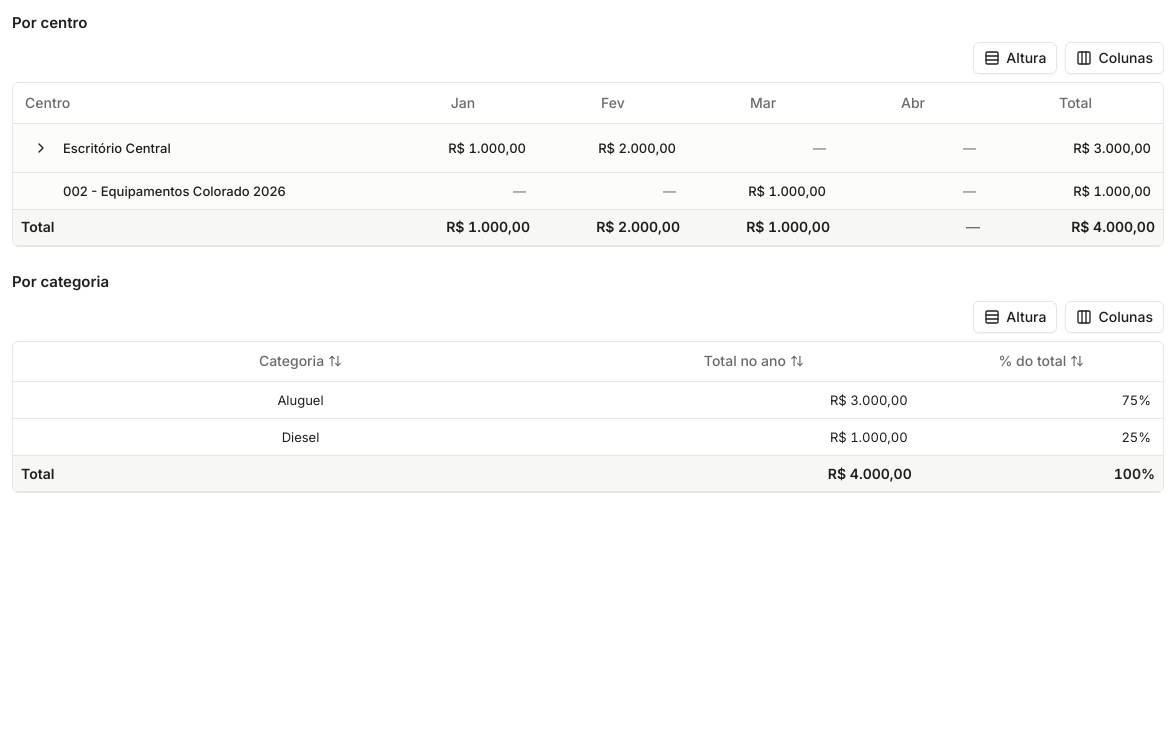
it: CustosIndiretosTabela › abre e fecha as etapas pelo botão da raiz
The width and height of the screenshot is (1176, 732).
Click the button named "Abrir Escritório Central" at (41, 148), box left=25, top=132, right=57, bottom=164
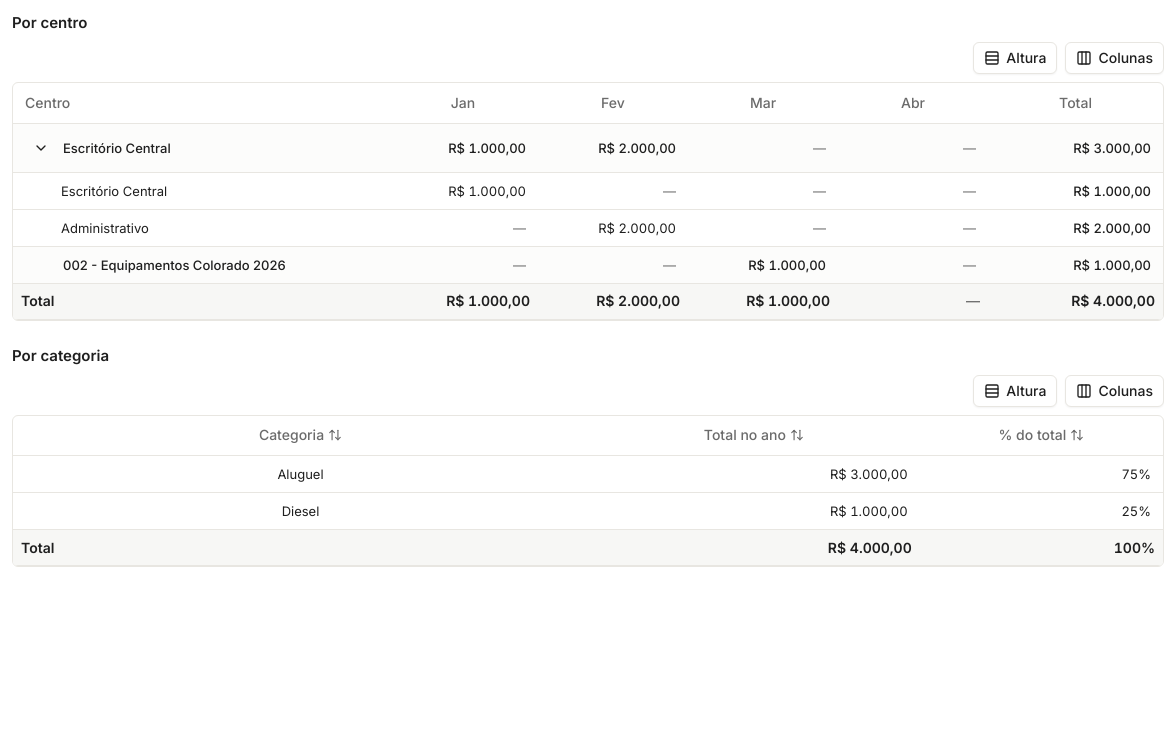
Now the row "Administrativo — R$ 2.000,00 — — R$ 2.000,00" is shown, box left=13, top=209, right=1163, bottom=246
Now the button named "Fechar Escritório Central" is expanded
Click the button named "Fechar Escritório Central" at (41, 148), box left=25, top=132, right=57, bottom=164
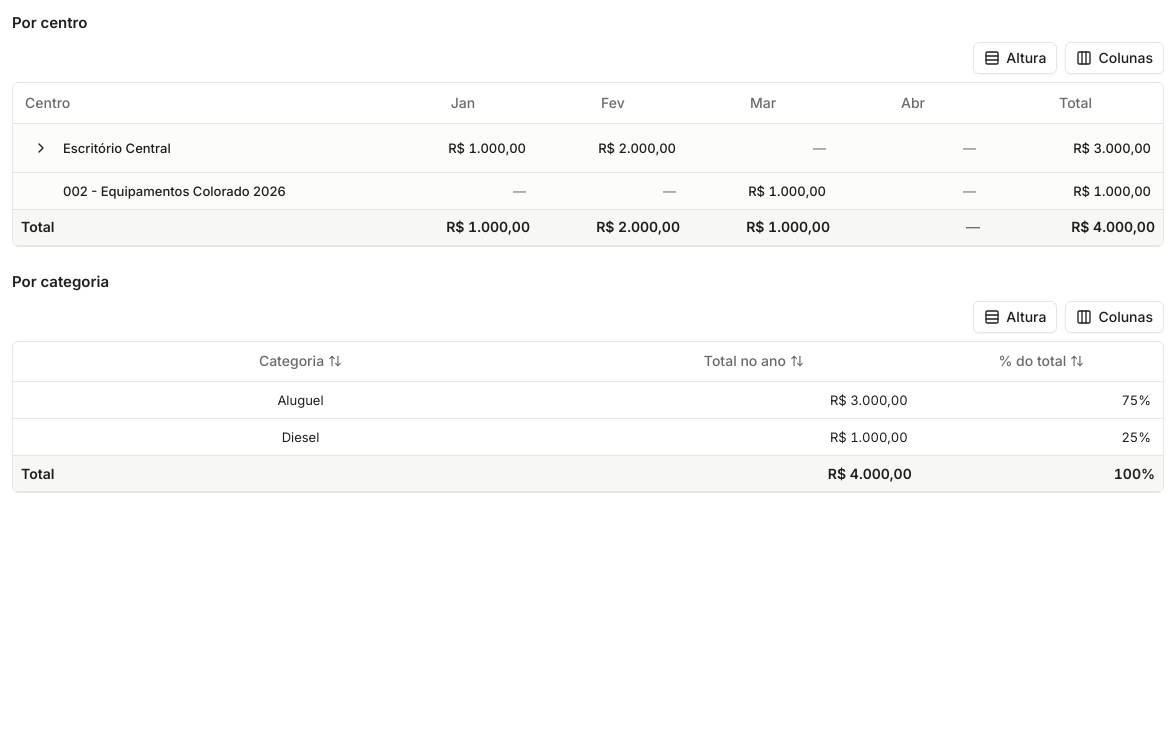
Now the text "Administrativo" is gone
